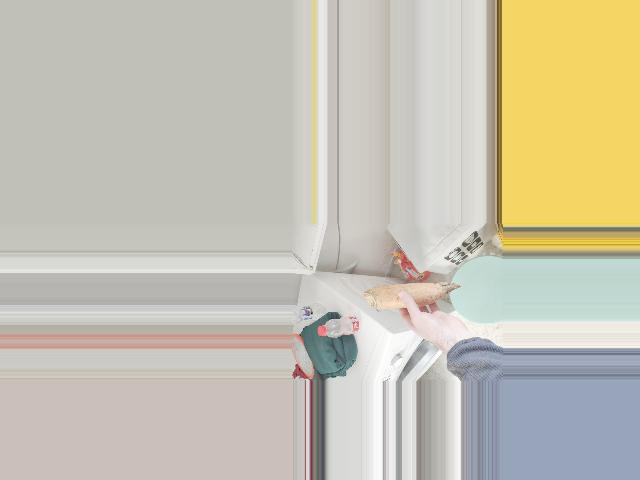sweet_potato: (367, 274, 459, 310)
